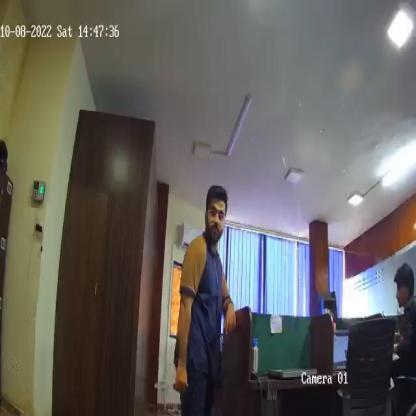Knife: (153, 380, 186, 392)
